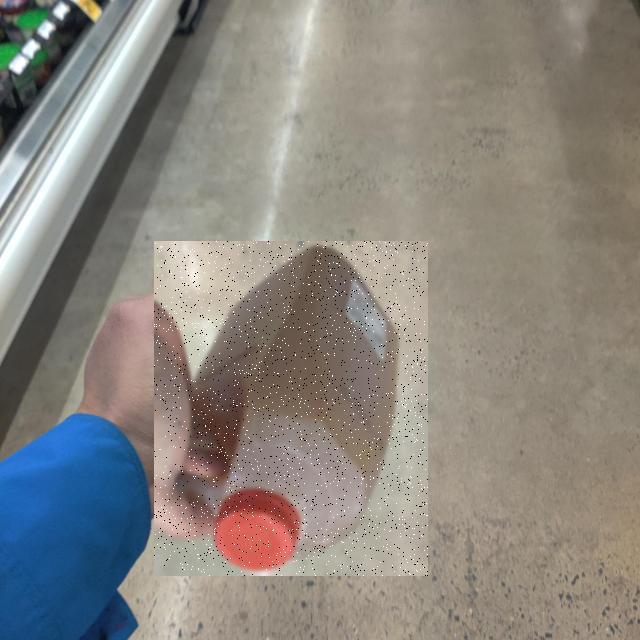Juice: (154, 241, 428, 576)
